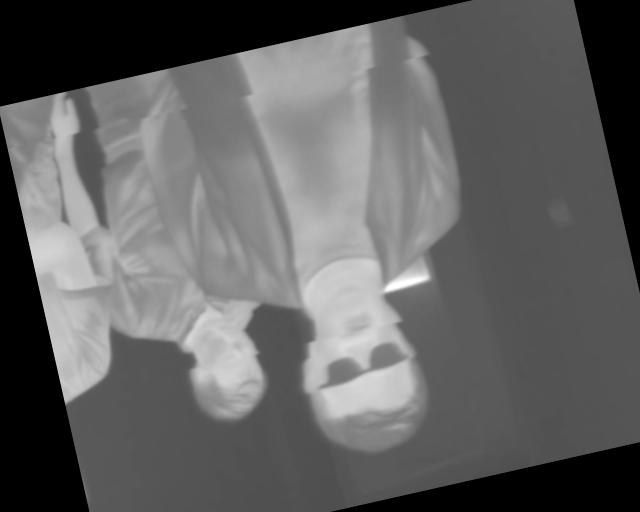face: (286, 286, 437, 467), (174, 308, 276, 430)
